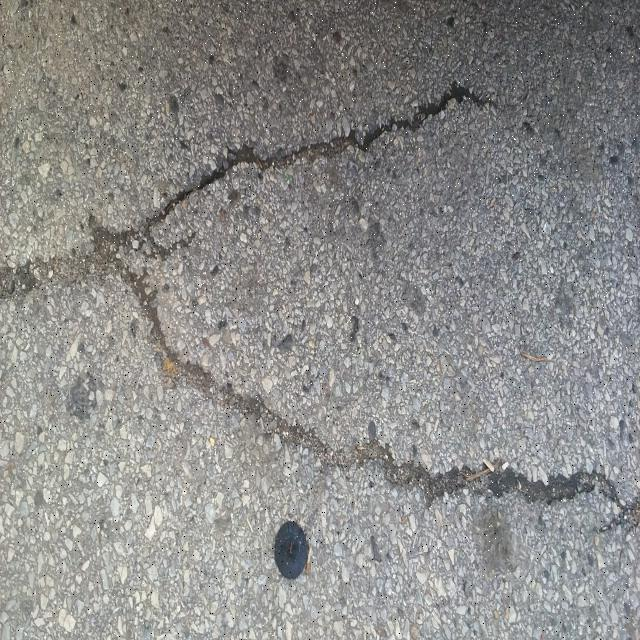Crack: (0, 78, 640, 537)
